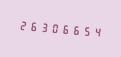five: (83, 22, 93, 39)
four: (94, 22, 104, 40)
six: (28, 17, 38, 35), (61, 20, 71, 37), (72, 21, 82, 38)
three: (39, 18, 49, 35)
two: (17, 16, 27, 34)
zero: (50, 19, 60, 36)
